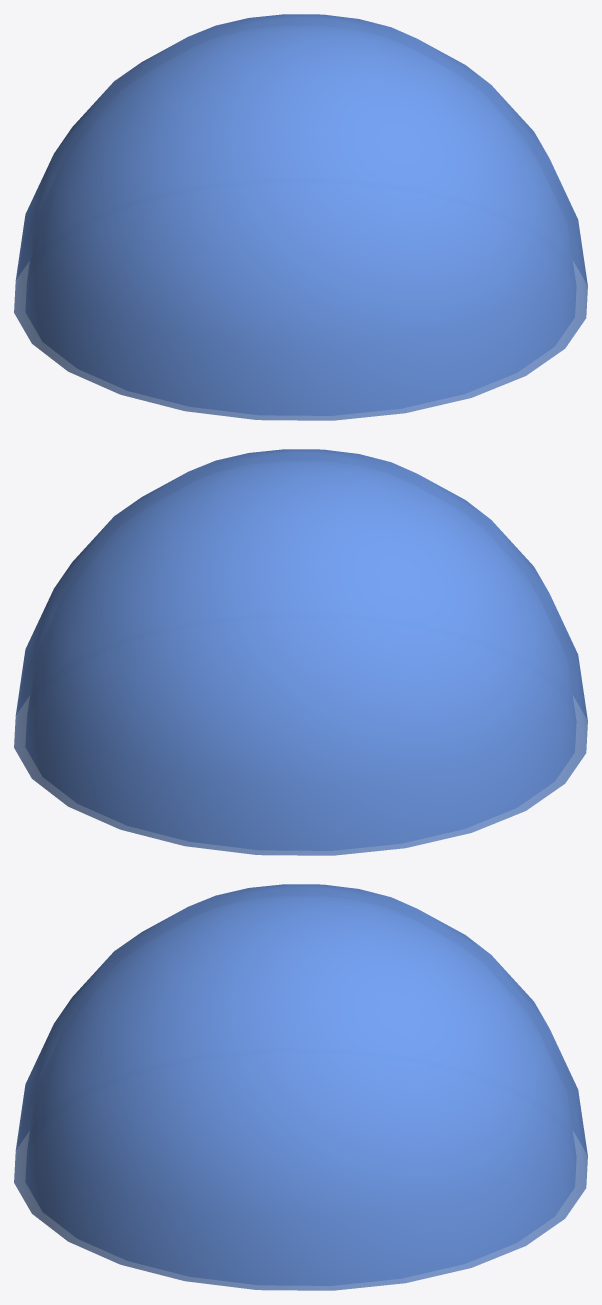
The model's file is dome.dae.
3 views of the same model, one above another, from view 1: azimuth 30°, elevation 25°; view 2: azimuth 150°, elevation 25°; view 3: azimuth 270°, elevation 25° (orthographic).
Visible parts, largest first — view 1: SketchUp (×3); view 2: SketchUp (×3); view 3: SketchUp (×3).
Boxes of the visible parts, x1,y1,x2,y2 form: SketchUp (×3): (14, 14, 587, 420); SketchUp (×3): (14, 449, 587, 855); SketchUp (×3): (14, 884, 587, 1290).
Size of the model in its own units: 312 by 312 by 155.
